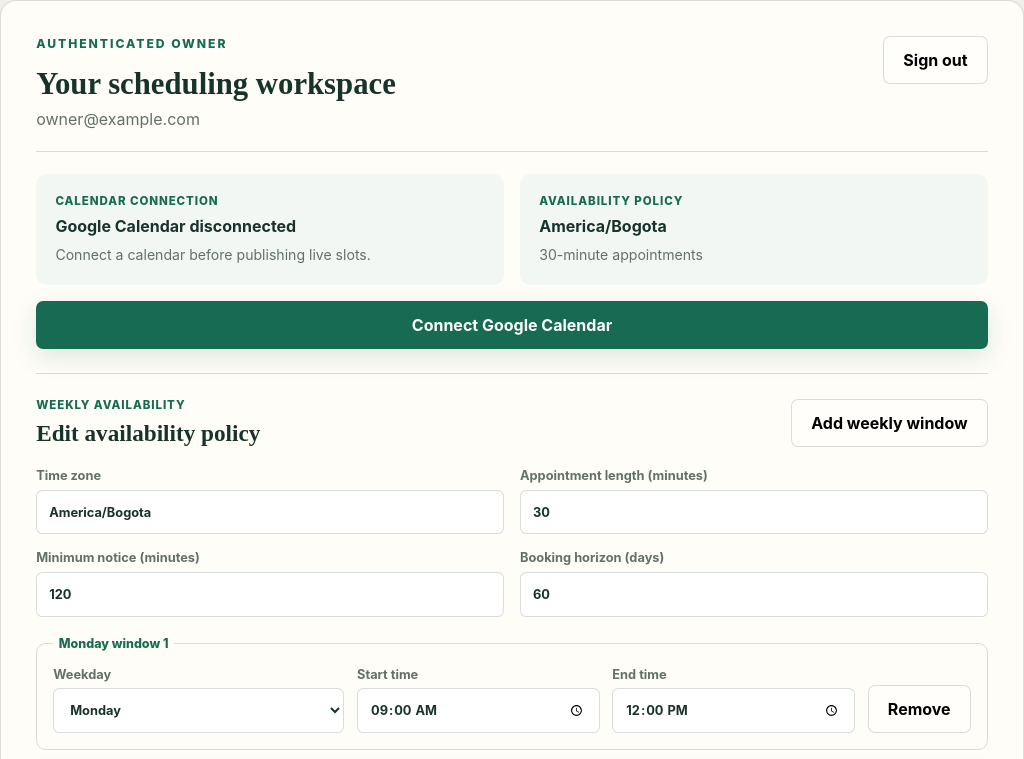
Test case: OwnerWorkspace management › removes a weekly window and maps validation failures to one safe message
The image size is (1024, 759).
What coordinates should you click on to do the following:
click the button named "Remove Monday window 1"
I would click on:
 (919, 709)
Its box is left=868, top=685, right=971, bottom=733.
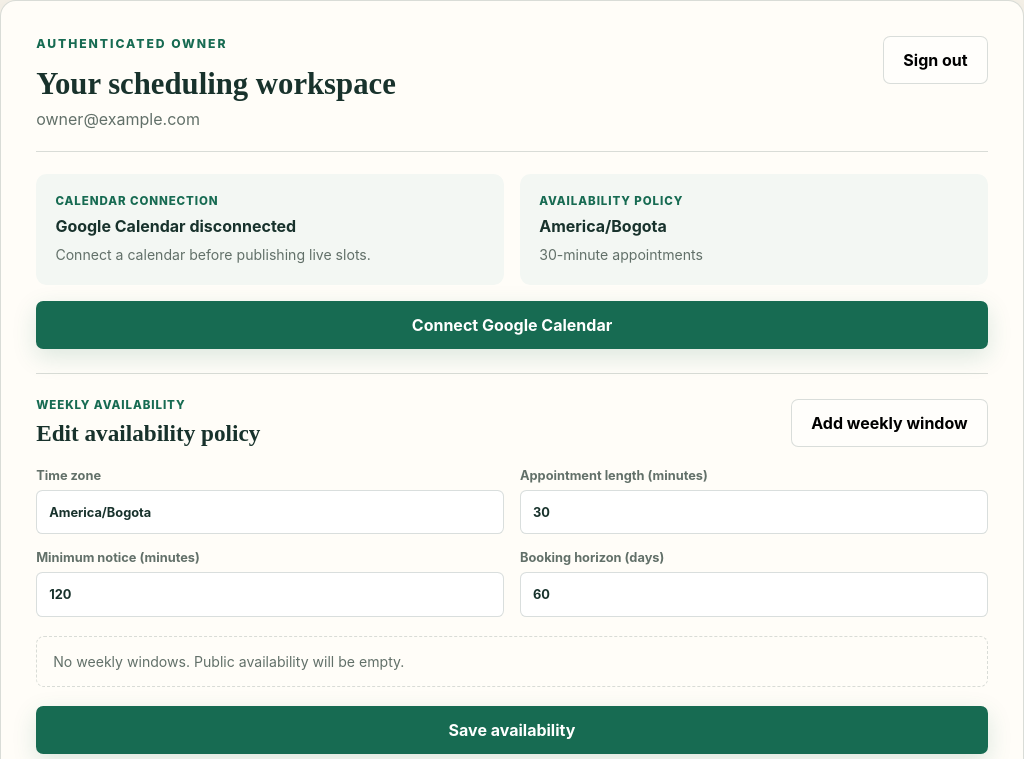
What coordinates should you click on to do the following:
click the button "Save availability"
I would click on:
 (512, 730)
Its box is left=36, top=706, right=988, bottom=754.
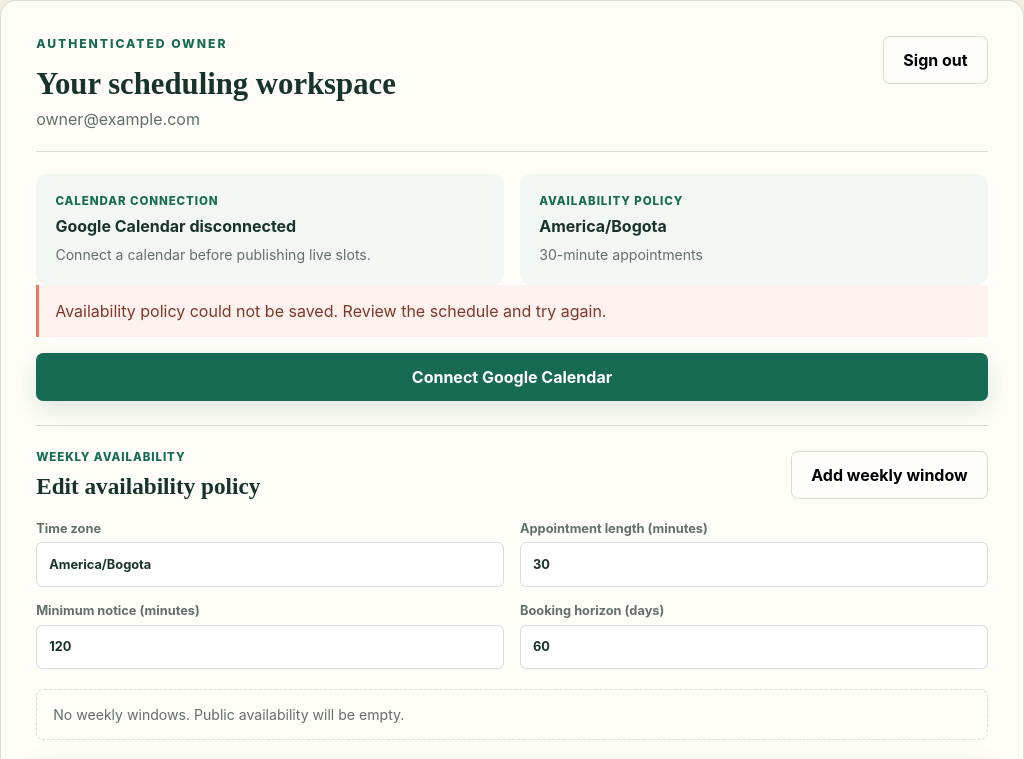
Check: the message reads "Availability policy could not be saved. Review the schedule and try again.", box left=55, top=301, right=606, bottom=321
